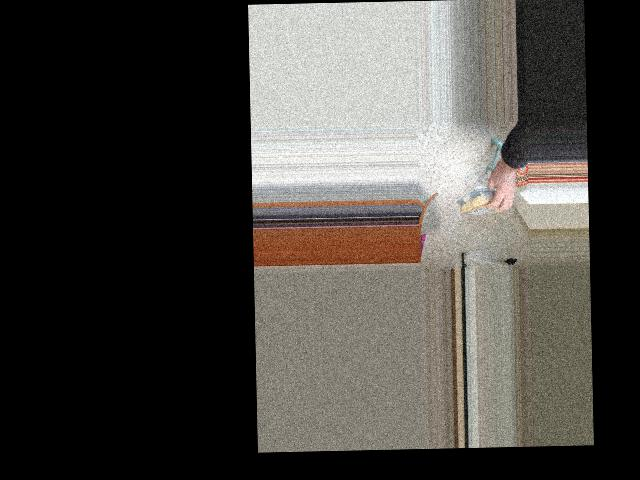cheese: (456, 191, 503, 216)
